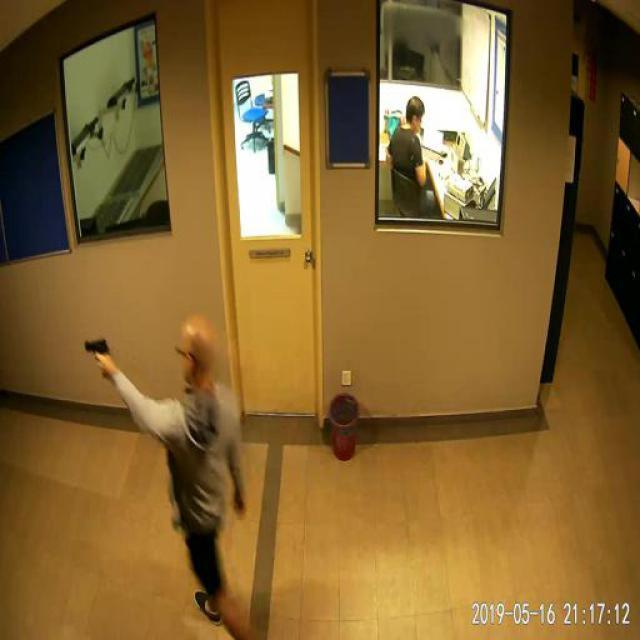weapon: (84, 339, 110, 380)
